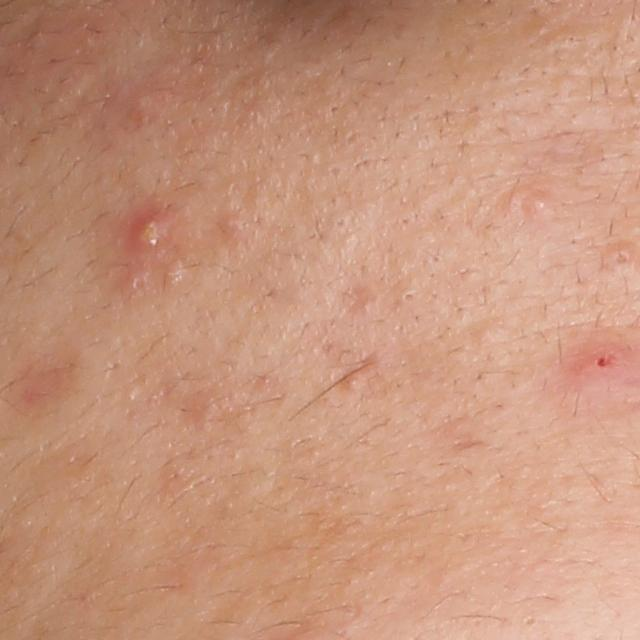atrophic_scar: (342, 281, 376, 320)
comedo: (523, 191, 555, 217), (396, 285, 424, 310)
papule: (576, 339, 629, 391)
pustule: (128, 211, 175, 255)
